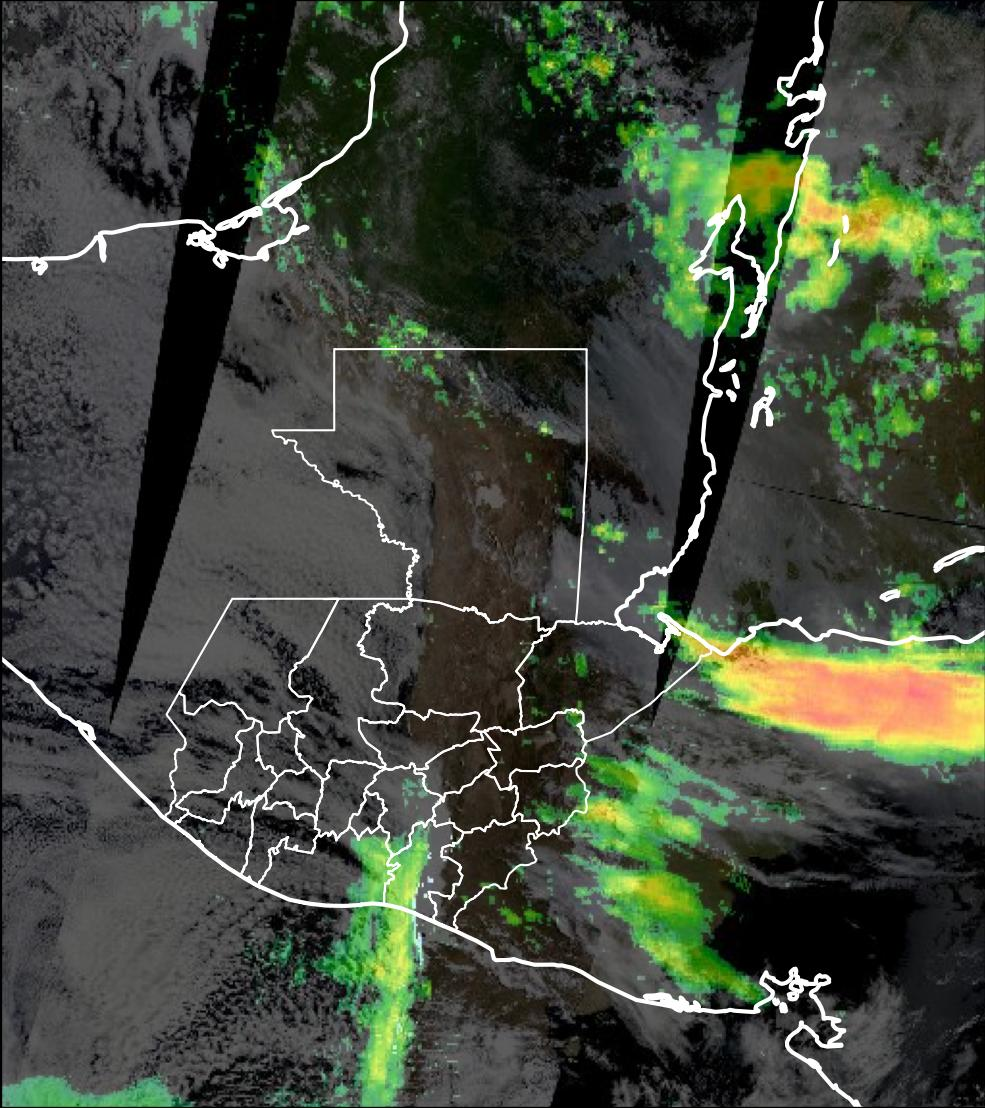precipitacion: (686, 625, 985, 767)
